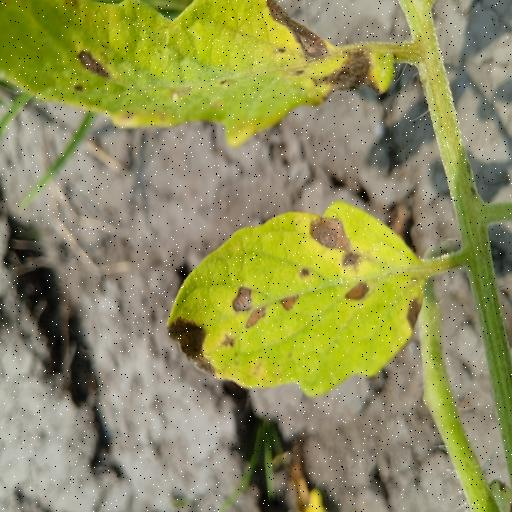Tomato_Brown_Spots: (0, 0, 406, 151), (163, 199, 433, 402)
